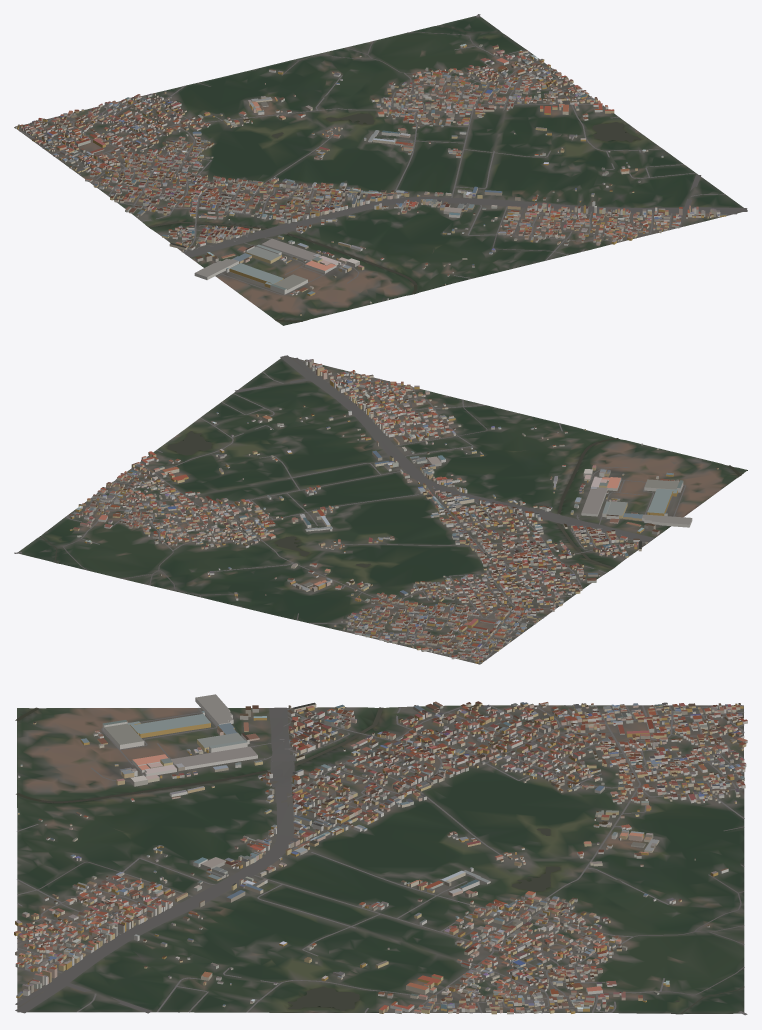
The picture shows the model from 3 angles, top to bottom: view 1: azimuth 30°, elevation 25°; view 2: azimuth 150°, elevation 25°; view 3: azimuth 270°, elevation 25°; orthographic projection. The views are drawn at different scales.
Parts seen in each view (by area): view 1: ground, buildings, roads, water; view 2: ground, buildings, roads, water; view 3: ground, buildings, roads, water.
Boxes of the visible parts, x1,y1,x2,y2 form: ground: (14, 15, 747, 325); buildings: (15, 44, 726, 315); roads: (19, 14, 747, 295); water: (148, 25, 640, 321); ground: (18, 355, 747, 664); buildings: (68, 359, 718, 663); roads: (14, 355, 685, 661); water: (40, 431, 741, 568); ground: (17, 705, 744, 1014); buildings: (14, 694, 747, 1014); roads: (15, 705, 747, 1015); water: (15, 707, 744, 1013).
Size of the model in its own units: 1450 by 29.53 by 1415.
